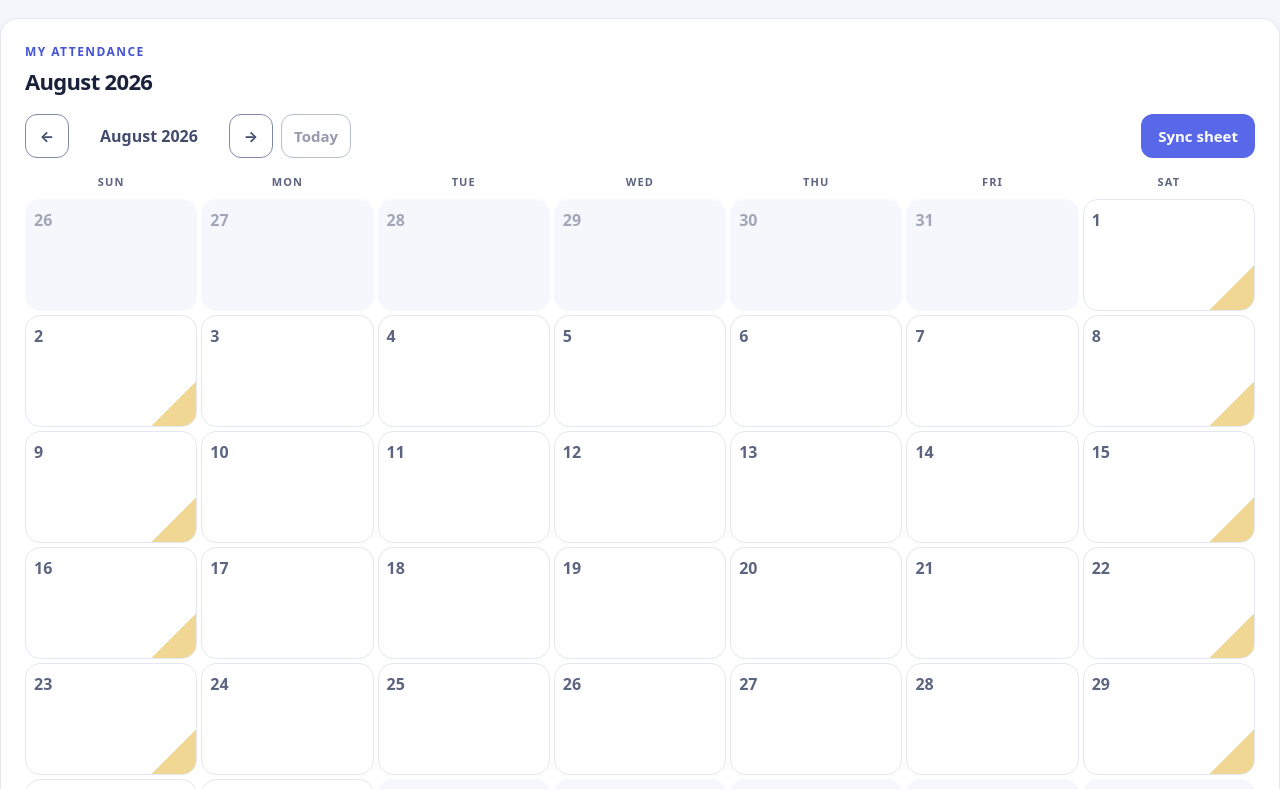
DashboardClient calendar workspace › can move from an empty current month to the nearest available earlier month
Click the button named "Previous month". click: x=47, y=136
box: [25, 114, 69, 158]
(page scrolled)
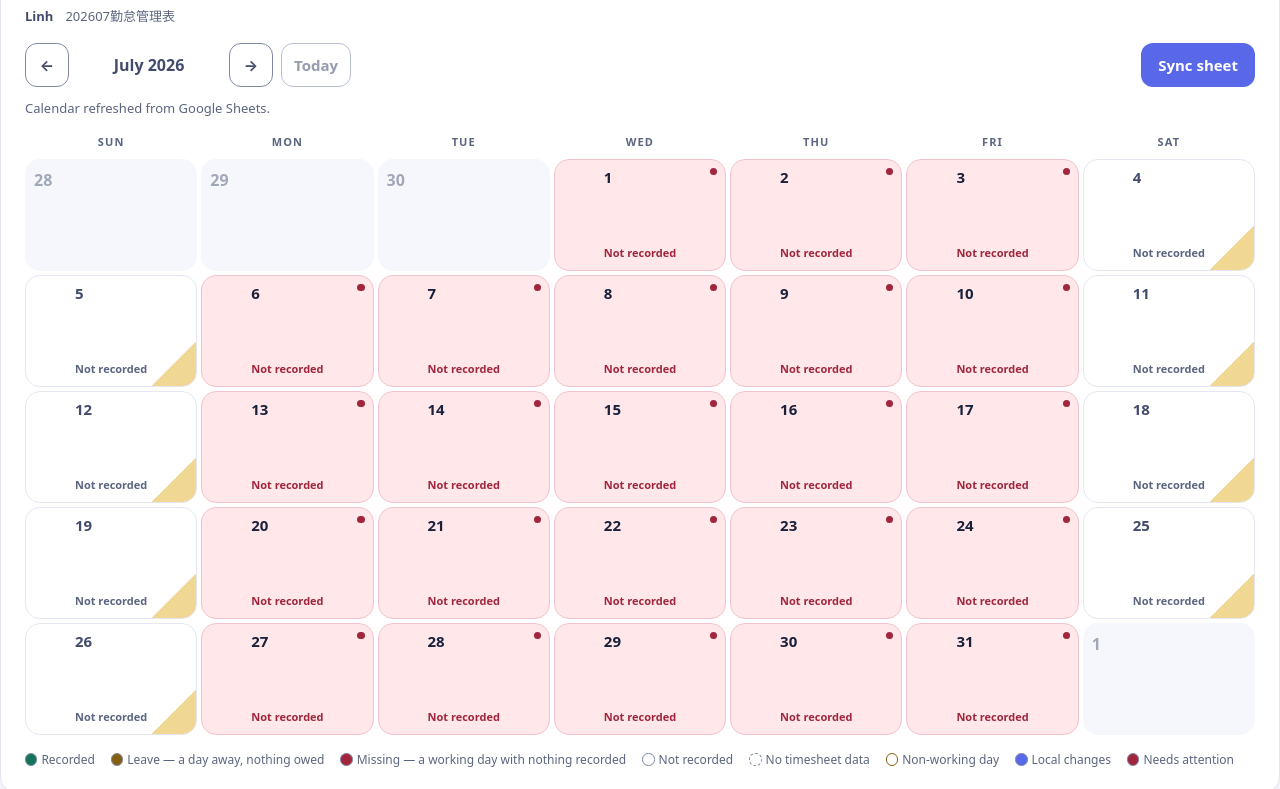
Expected: the table named "July 2026 attendance calendar" is shown
